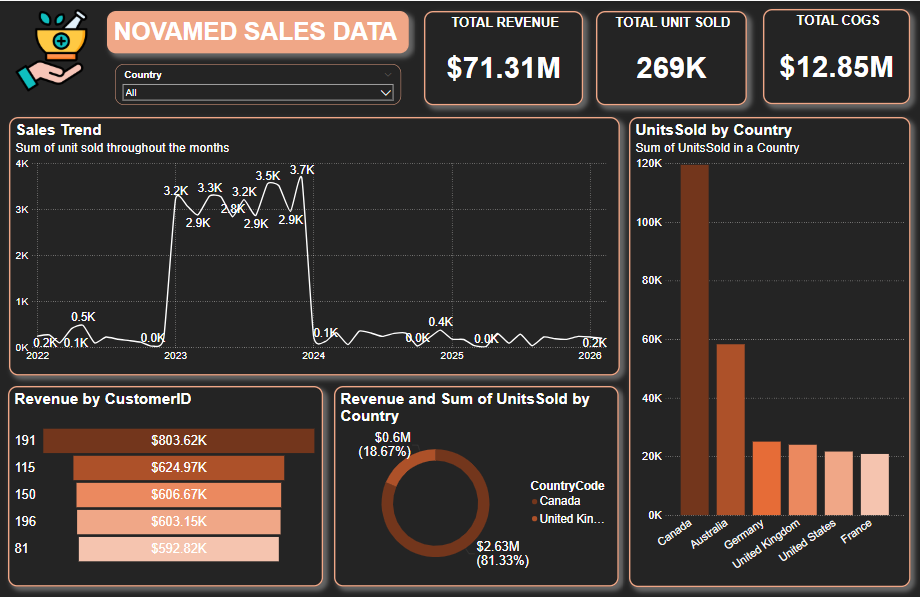

The dashboard page shown, as its layout file describes it:
{"tool":"powerbi","page":{"name":"Main Dashboard","canvas":[2000,1300],"ordinal":0},"visuals":[{"type":"funnel","fields":{"Category":["CustomerTable.CustomerID"],"Y":["New Table.Revenue"]},"box":[18.4,837.3,685,435.7],"z":0},{"type":"donutChart","fields":{"Category":["CustomerTable.Country"],"Y":["New Table.Revenue"]},"box":[727,837.3,619.4,435.7],"z":1000},{"type":"textbox","box":[233.6,21,656.2,91.9],"z":2000},{"type":"card","title":"TOTAL REVENUE","fields":{"Values":["New Table.Revenue"]},"box":[921.3,21,346.5,204.7],"z":3000},{"type":"card","title":"TOTAL UNIT SOLD","fields":{"Values":["Sum(FactTable.UnitsSold)"]},"box":[1296.6,21,328.1,204.7],"z":4000},{"type":"card","title":"TOTAL COGS","fields":{"Values":["New Table.COGS"]},"box":[1658.8,18.4,320.2,207.3],"z":5000},{"type":"image","box":[18.4,7.9,189,196.9],"z":6000},{"type":"slicer","fields":{"Values":["CustomerTable.Country"]},"box":[249.3,136.5,622,89.2],"z":7000},{"type":"lineChart","title":"Sales Trend","fields":{"Category":["FactTable.SaleDate.Variation.Date Hierarchy.Year","FactTable.SaleDate.Variation.Date Hierarchy.Month"],"Y":["Sum(FactTable.UnitsSold)"]},"box":[19,251.5,1328.5,562.2],"z":8000},{"type":"columnChart","title":"UnitsSold by Country","fields":{"Category":["CustomerTable.Country"],"Y":["Sum(FactTable.UnitsSold)"]},"box":[1366.4,251.5,612,1022.4],"z":9000}]}

Visuals, with their boxes in screenshot pixels (x1, y1, x2, y2), scaled from the page's 2000x1300 canvas onto the 920x597 screenshot:
funnel - CustomerTable.CustomerID x New Table.Revenue: 8/385/324/585
donutChart - CustomerTable.Country x New Table.Revenue: 334/385/619/585
textbox: 107/10/409/52
"TOTAL REVENUE" card: 424/10/583/104
"TOTAL UNIT SOLD" card: 596/10/747/104
"TOTAL COGS" card: 763/8/910/104
image: 8/4/95/94
slicer - CustomerTable.Country: 115/63/401/104
"Sales Trend" lineChart: 9/115/620/374
"UnitsSold by Country" columnChart: 629/115/910/585
